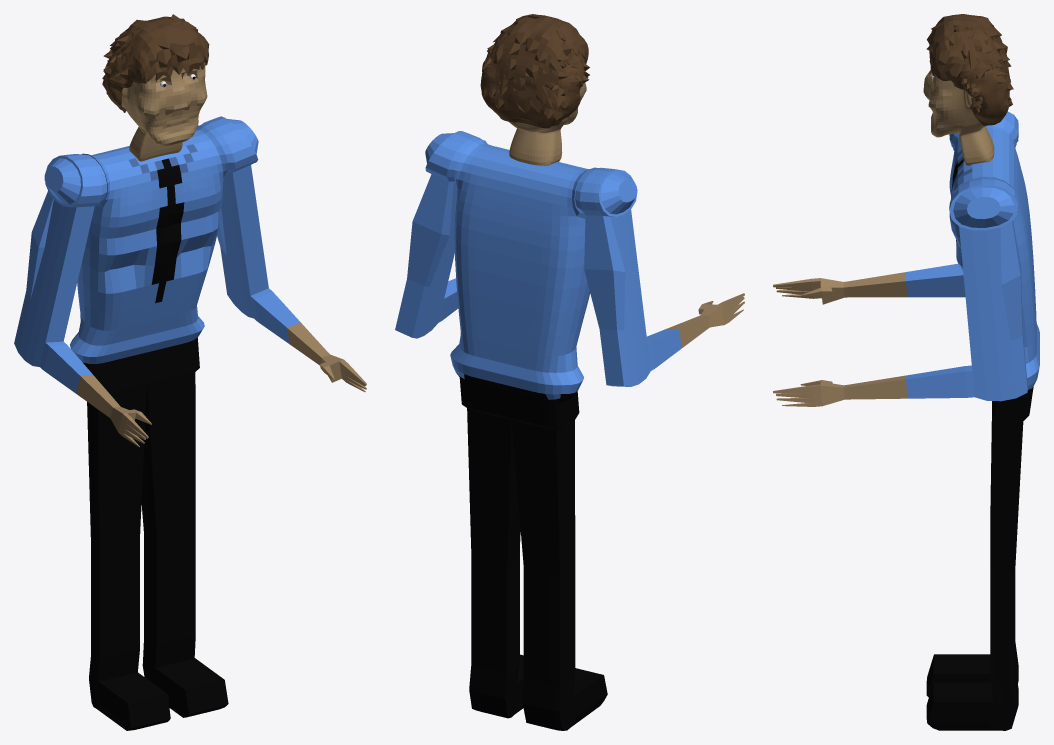
Rendered from jimheadProgressOneBody1.glb.
The picture shows the model from 3 angles, left to right: view 1: azimuth 30°, elevation 25°; view 2: azimuth 150°, elevation 25°; view 3: azimuth 270°, elevation 25°; orthographic projection.
Parts seen in each view (by area): view 1: Bod, Hair, Head; view 2: Bod, Hair, Head; view 3: Bod, Hair, Head.
Part boxes in pixels (x1,y1,x2,y2): Bod: [14, 116, 366, 730]; Hair: [102, 14, 209, 112]; Head: [121, 62, 207, 161]; Bod: [395, 131, 744, 730]; Hair: [480, 14, 589, 128]; Head: [509, 83, 586, 165]; Bod: [773, 111, 1039, 730]; Hair: [926, 14, 1013, 125]; Head: [923, 70, 994, 165].
Bounding box in the file's own units: 1.56 × 4.37 × 1.53.
